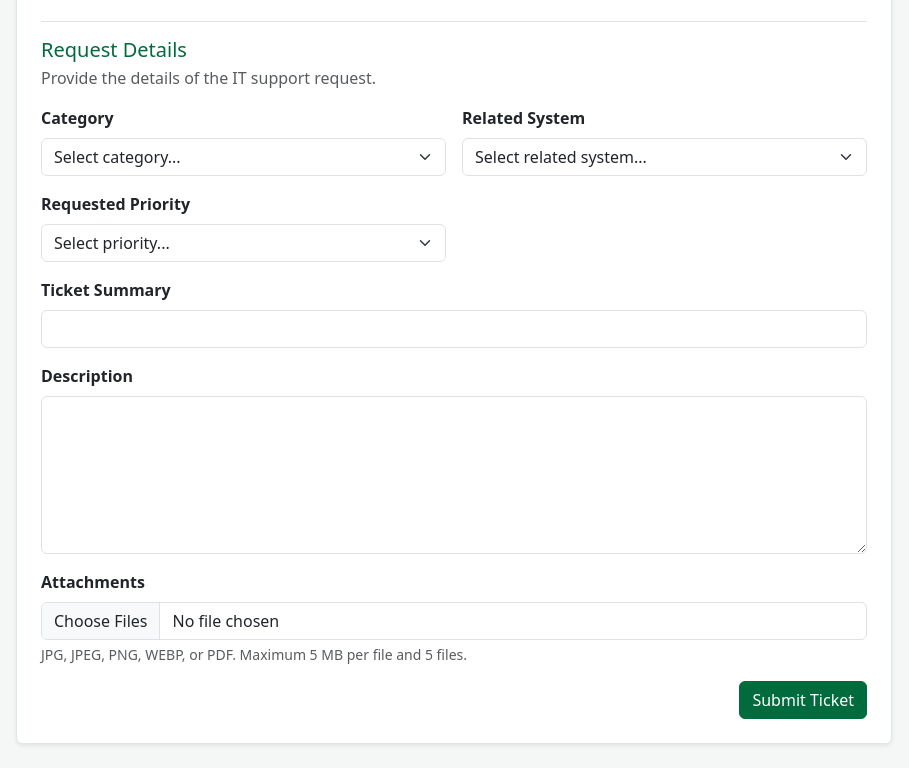
Test: Create Ticket › shows required-field validation
(page scrolled)
Click the button "Submit Ticket" at (803, 700), box [739,681,867,719]
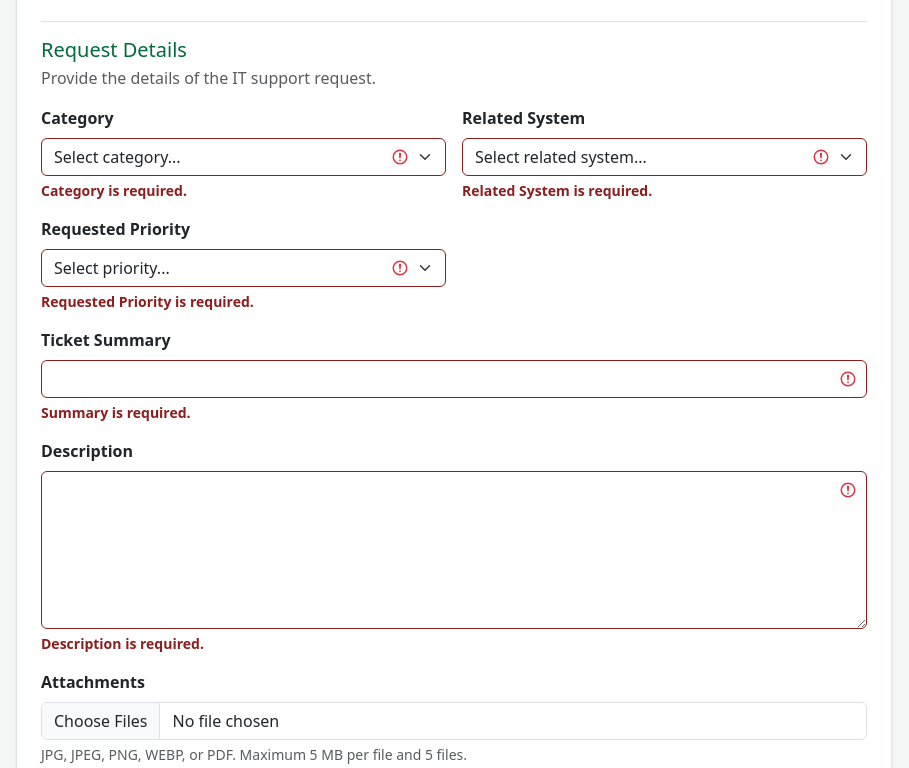
expect the text "Category is required." is shown: met, box [41,181,187,200]
expect the text "Related System is required." is shown: met, box [462,181,652,200]
expect the text "Requested Priority is required." is shown: met, box [41,292,254,311]
